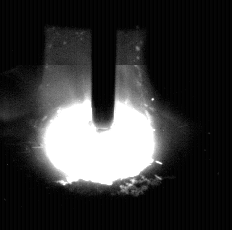arame: (93, 0, 116, 132)
poca: (43, 0, 155, 230)
